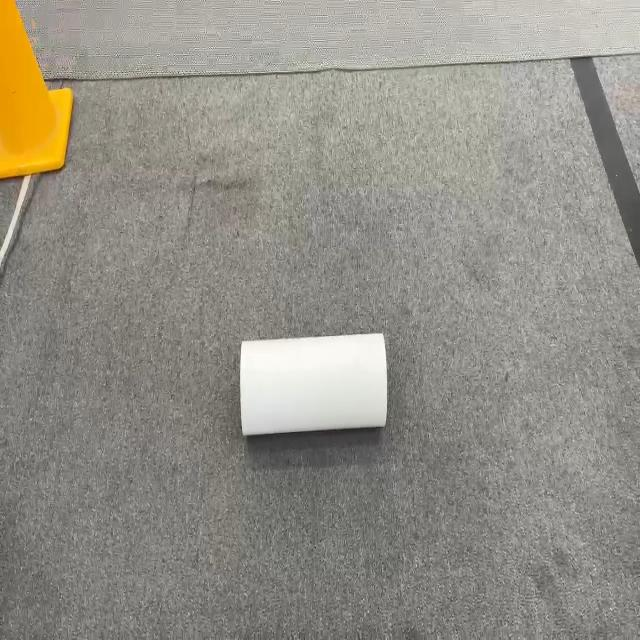coral: (239, 330, 388, 436)
